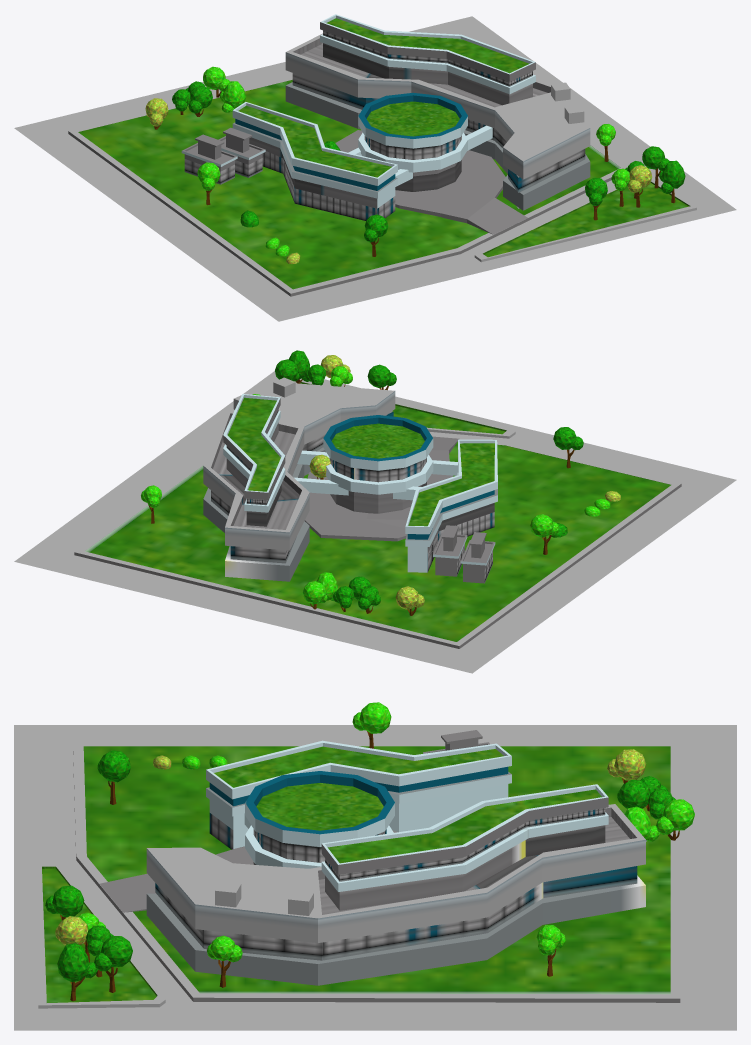
The model's file is socialmedia_LV1.fbx.
3 renders of one model, top to bottom at view 1: azimuth 30°, elevation 25°; view 2: azimuth 150°, elevation 25°; view 3: azimuth 270°, elevation 25°, orthographic. The views are drawn at different scales.
Parts seen in each view (by area): view 1: social media lv1; view 2: social media lv1; view 3: social media lv1.
Boxes of the visible parts, x1,y1,x2,y2 form: social media lv1: (14, 14, 736, 321); social media lv1: (14, 350, 736, 673); social media lv1: (14, 702, 736, 1030).
Bounding box in the file's own units: 200 × 33.85 × 200.
